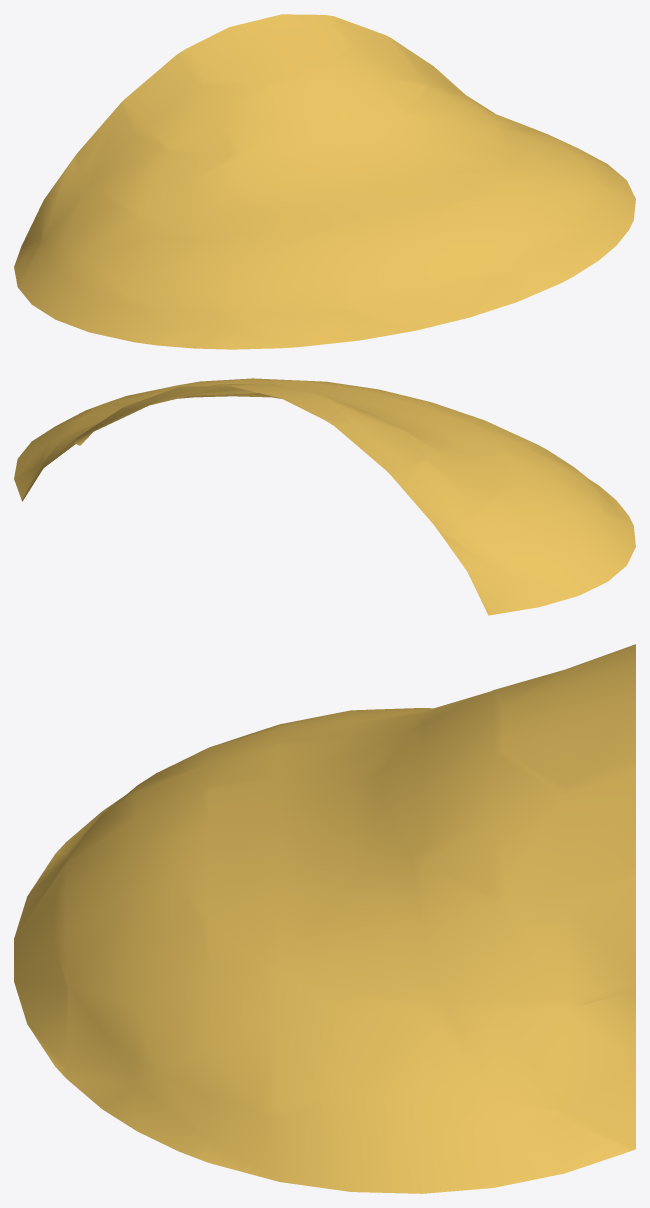
The model's file is sandPileWithEdge.fbx.
3 views of the same model, one above another, from view 1: azimuth 30°, elevation 25°; view 2: azimuth 150°, elevation 25°; view 3: azimuth 270°, elevation 25° (orthographic). The views are drawn at different scales.
Visible parts, largest first — view 1: Sand Pile with Edge; view 2: Sand Pile with Edge; view 3: Sand Pile with Edge.
Part boxes in pixels (x1,y1,x2,y2): Sand Pile with Edge: (14,14,635,349); Sand Pile with Edge: (14,378,635,615); Sand Pile with Edge: (14,644,635,1193).
Bounding box in the file's own units: 157 × 88.3 × 43.36.
